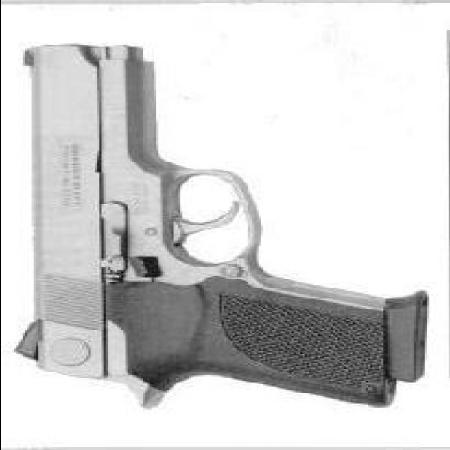Pistol: (13, 45, 430, 417)
